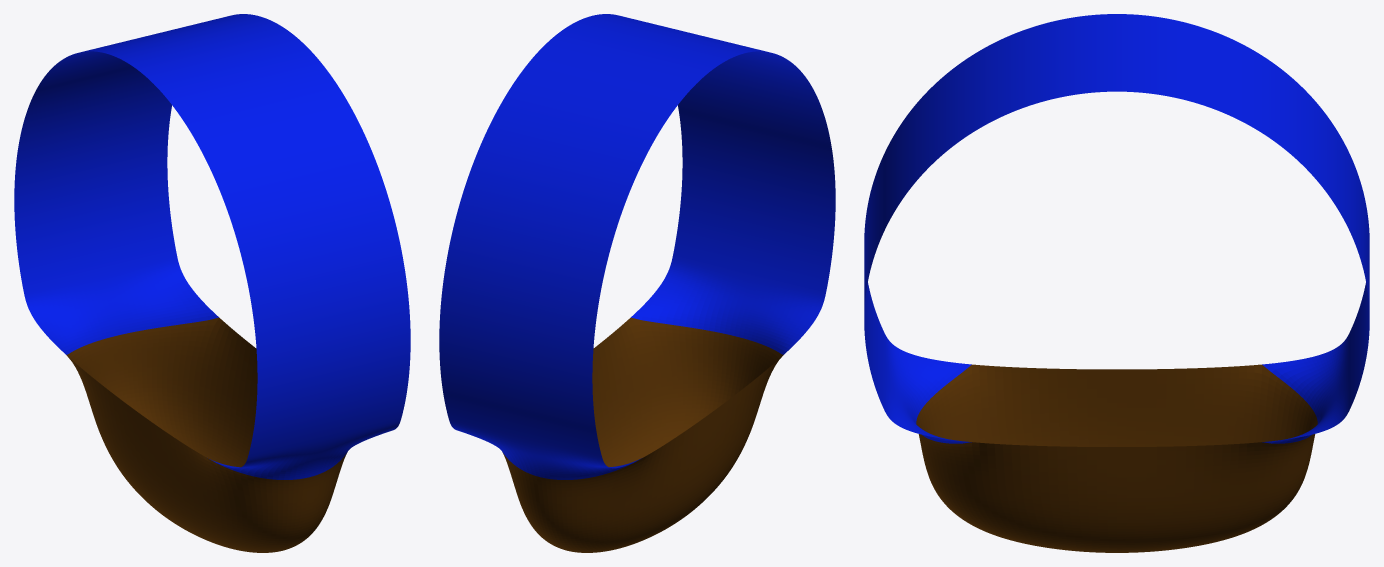
File: L1V1_HP_SmallTrapPassage.fbx
The picture shows the model from 3 angles, left to right: view 1: azimuth 30°, elevation 25°; view 2: azimuth 150°, elevation 25°; view 3: azimuth 270°, elevation 25°; orthographic projection. The views are drawn at different scales.
Parts seen in each view (by area): view 1: Passage.5; view 2: Passage.5; view 3: Passage.5.
Part boxes in pixels (x1=…): Passage.5: x1=14, y1=14, x2=410, y2=552; Passage.5: x1=439, y1=14, x2=835, y2=552; Passage.5: x1=864, y1=14, x2=1369, y2=552.
Bounding box in the file's own units: 459 × 1352 × 1262.
